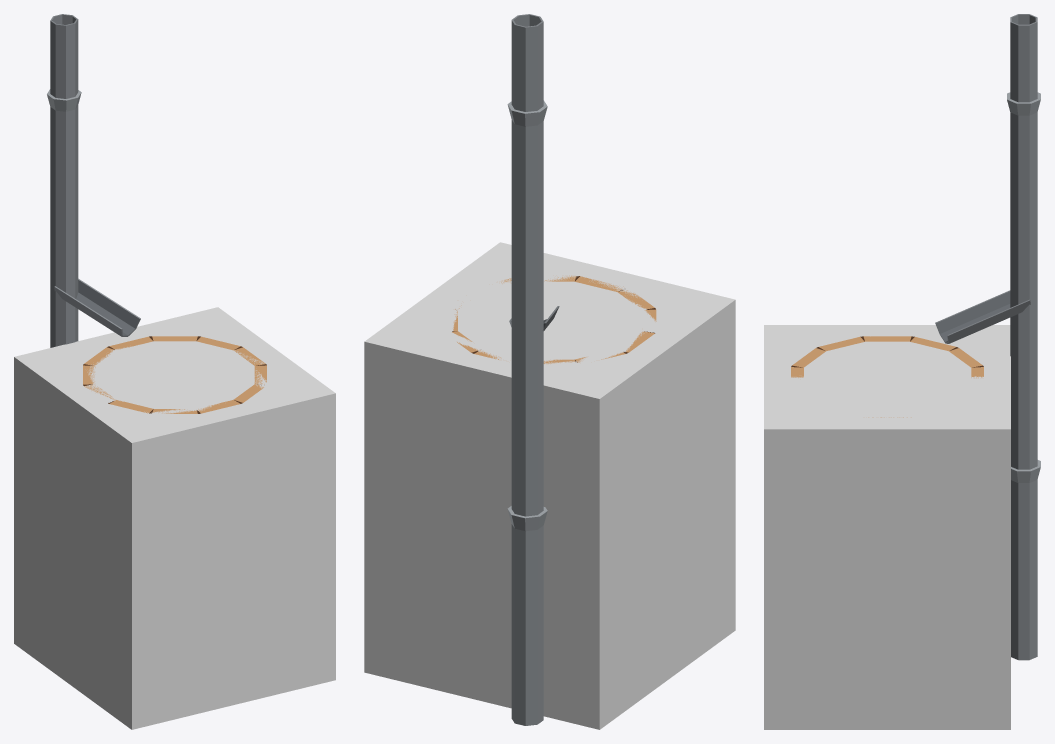
The model's file is FMS_RainBarrel.fbx.
The picture shows the model from 3 angles, left to right: view 1: azimuth 30°, elevation 25°; view 2: azimuth 150°, elevation 25°; view 3: azimuth 270°, elevation 25°; orthographic projection. The views are drawn at different scales.
Parts seen in each view (by area): view 1: FMS_RainBarrel_Col, FMS_RainBarrel_Downspout, FMS_RainBarrel_LOD0; view 2: FMS_RainBarrel_Col, FMS_RainBarrel_Downspout, FMS_RainBarrel_LOD0; view 3: FMS_RainBarrel_Col, FMS_RainBarrel_Downspout, FMS_RainBarrel_LOD0.
Part boxes in pixels (box(x1,y1,x2,y2)): FMS_RainBarrel_Col: box(14, 307, 335, 729); FMS_RainBarrel_Downspout: box(47, 14, 140, 347); FMS_RainBarrel_LOD0: box(83, 336, 266, 413); FMS_RainBarrel_Col: box(364, 242, 735, 729); FMS_RainBarrel_Downspout: box(507, 14, 559, 725); FMS_RainBarrel_LOD0: box(452, 275, 656, 363); FMS_RainBarrel_Col: box(764, 325, 1010, 729); FMS_RainBarrel_Downspout: box(935, 14, 1040, 660); FMS_RainBarrel_LOD0: box(791, 336, 983, 417).
Size of what is drawn, in the model's own units: 0.67 by 1.9 by 0.7512.
1 material, 1 textured.
